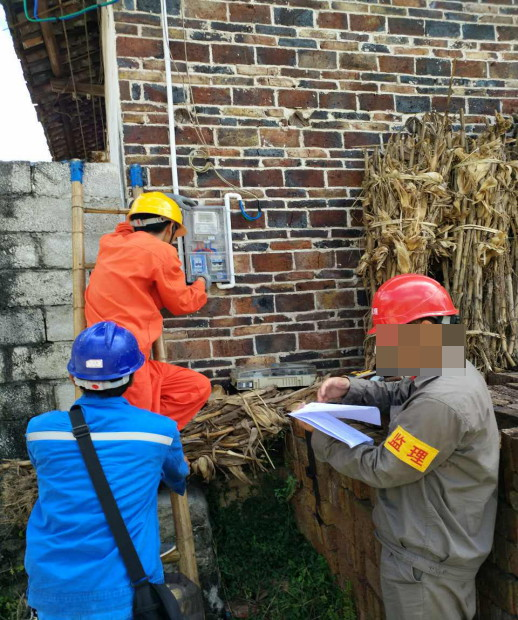badge: (382, 425, 438, 475)
downcloth: (379, 547, 478, 620)
halt: (364, 276, 462, 370), (67, 323, 144, 396), (127, 191, 186, 243)
hand: (316, 376, 353, 402)
inear: (405, 320, 439, 354)
outear: (165, 220, 180, 242)
person: (293, 273, 501, 620), (16, 319, 225, 620), (82, 189, 212, 355)
upcloth: (339, 350, 501, 578)
upsuit: (15, 403, 191, 613)
ydownsuit: (117, 359, 214, 433)
yupsuit: (83, 229, 209, 361)
